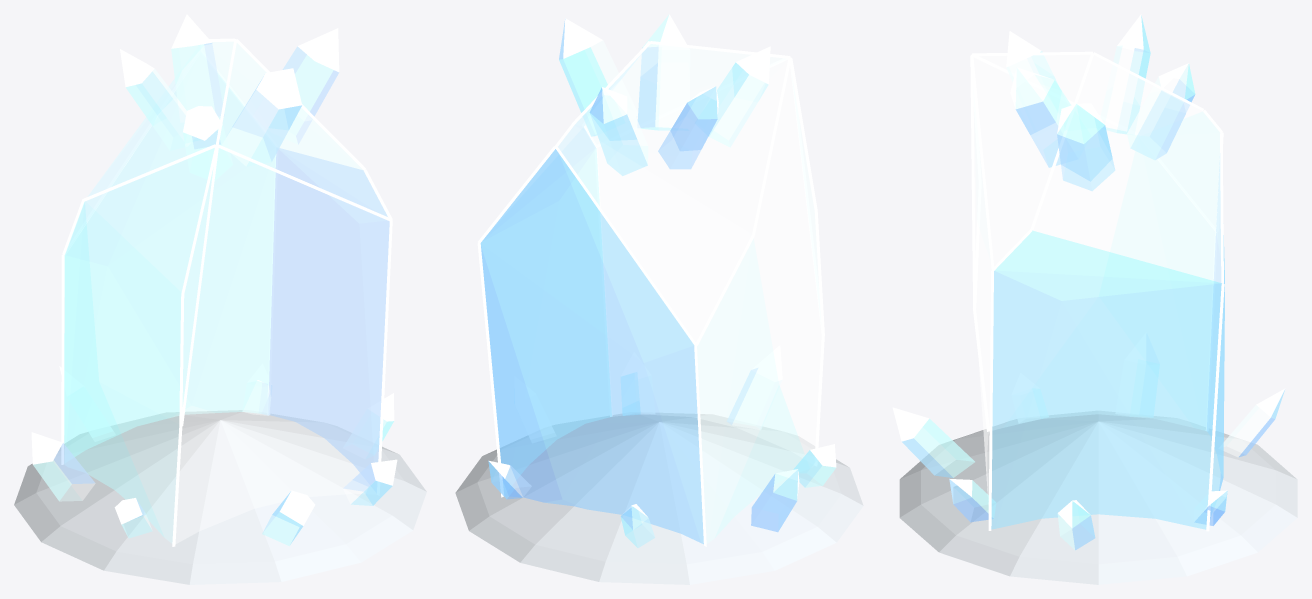
The model's file is BloqueHielo.glb.
3 renders of one model, left to right at view 1: azimuth 30°, elevation 25°; view 2: azimuth 150°, elevation 25°; view 3: azimuth 270°, elevation 25°, orthographic.
Visible parts, largest first — view 1: BloqueHielo; view 2: BloqueHielo; view 3: BloqueHielo.
Boxes of the visible parts, box(x1,y1,x2,y2) form: BloqueHielo: box(14, 14, 426, 584); BloqueHielo: box(455, 14, 863, 584); BloqueHielo: box(892, 14, 1297, 584).
Size of the model in its own units: 1.48 by 2.11 by 1.47.
